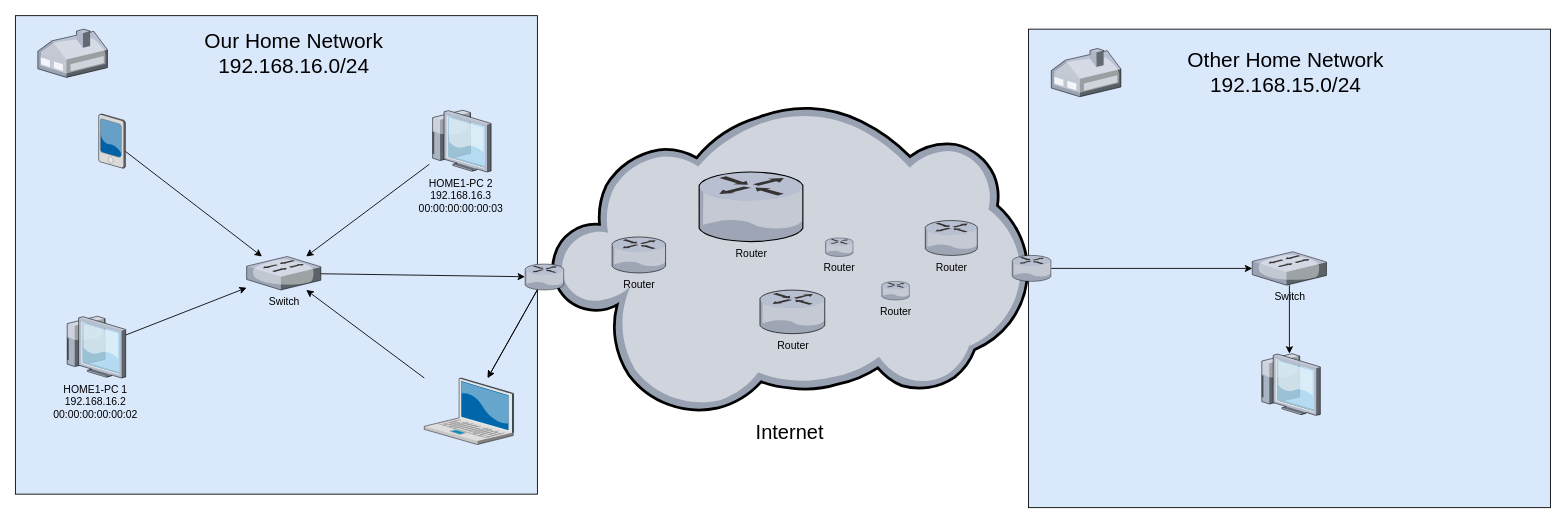
Some shapes in this 1566 by 523 pixel diagram are drawn without their labels. The centre of each missing label's shape, as x and y in pixels:
"HOME2-PC 1 192.168.15.2 00:00:00:00:00:06" goes at point (1289, 384).
"IPHONE 1 192.168.16.5 00:00:00:00:00:05" goes at point (111, 141).
"LAPTOP 1 192.168.16.4 00:00:00:00:00:04" goes at point (468, 411).
"Router 192.168.15.1 00:00:00:00:00:07" goes at point (1031, 268).
"Router 192.168.16.1 00:00:00:00:00:01" goes at point (544, 277).
